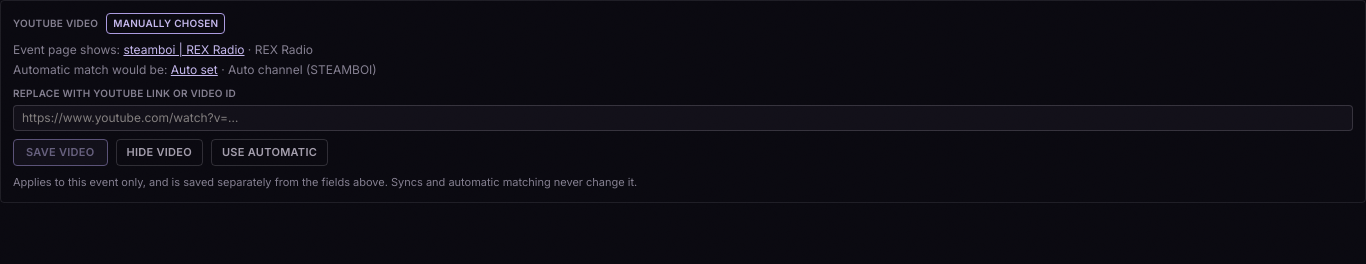
Test case: EventYoutubePanel — actions › hide: sends mode hidden
Click the button "Hide video" at x=159, y=152, box [116,139,203,166]
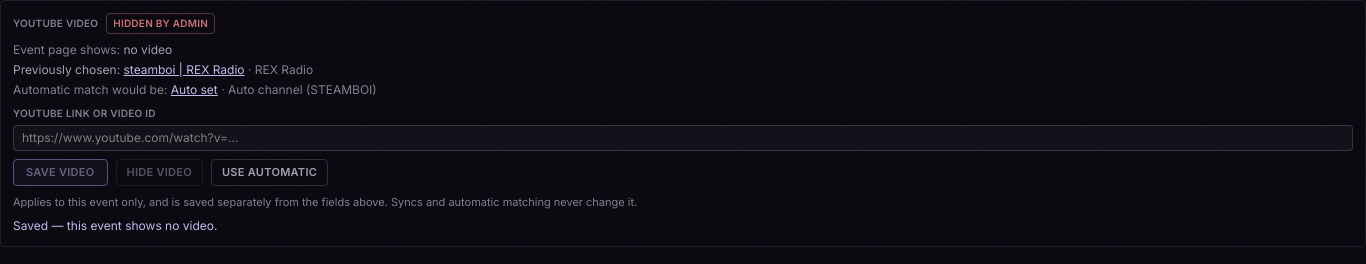
Expected: the text with test id "youtube-status" reads "Hidden by admin", [113,17,208,29]
